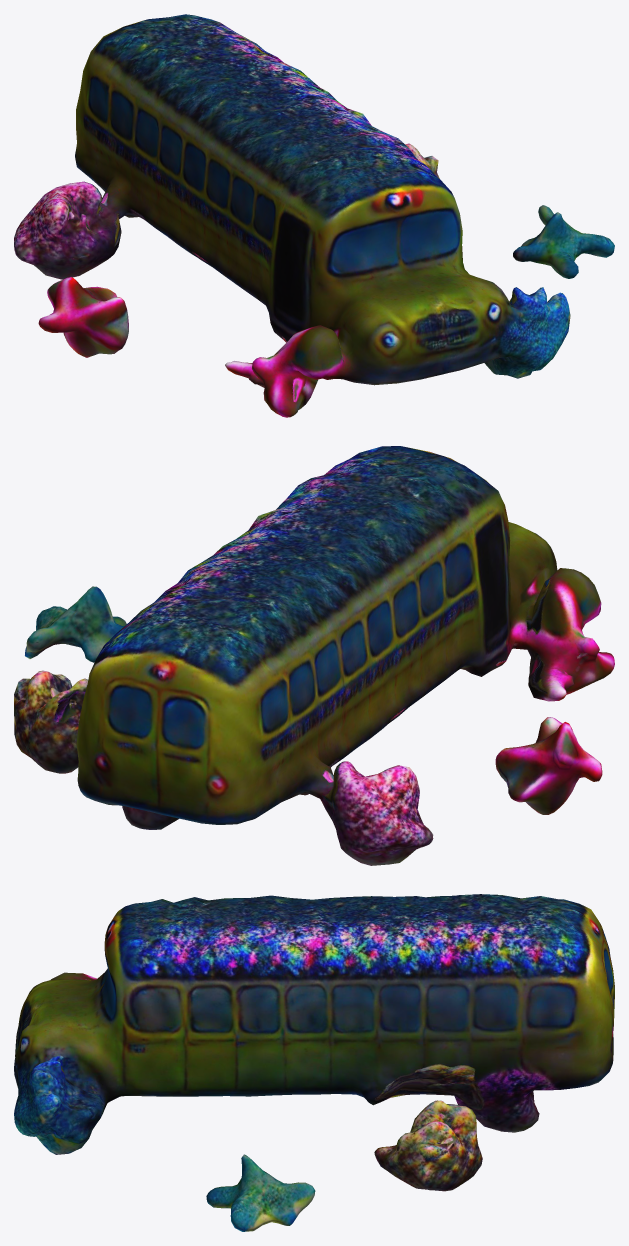
Rendered from d9d189990417_40a228ebfdae_Underwater_School_B.glb.
3 views of the same model, one above another, from view 1: azimuth 30°, elevation 25°; view 2: azimuth 150°, elevation 25°; view 3: azimuth 270°, elevation 25° (orthographic). The views are drawn at different scales.
Visible parts, largest first — view 1: mesh; view 2: mesh; view 3: mesh.
Boxes of the visible parts, <box> form: mesh: <box>14,14,614,417</box>; mesh: <box>14,446,614,865</box>; mesh: <box>14,894,614,1231</box>.
Bounding box in the file's own units: 0.9956 × 0.3607 × 0.9899.
1 material, 1 textured.
